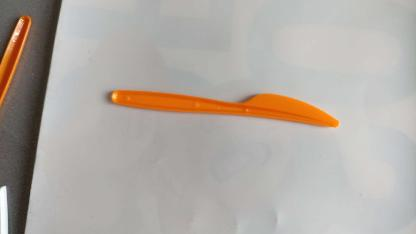Others: (109, 86, 343, 132)
